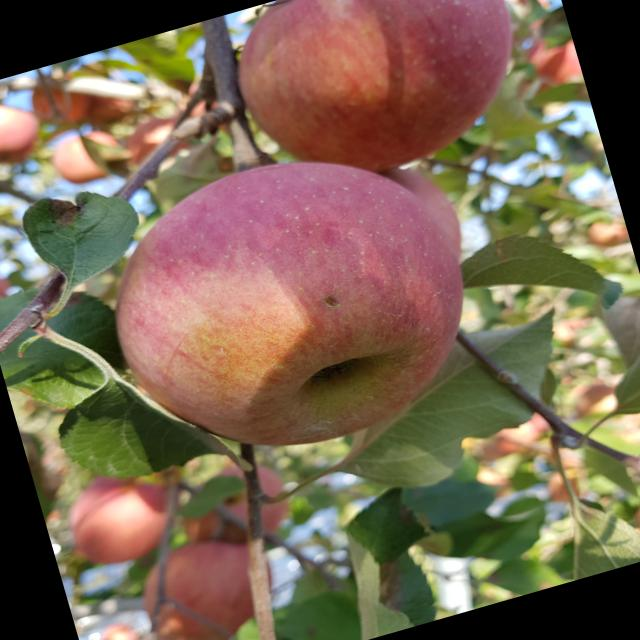fresh: (71, 106, 515, 503), (200, 1, 560, 219)
